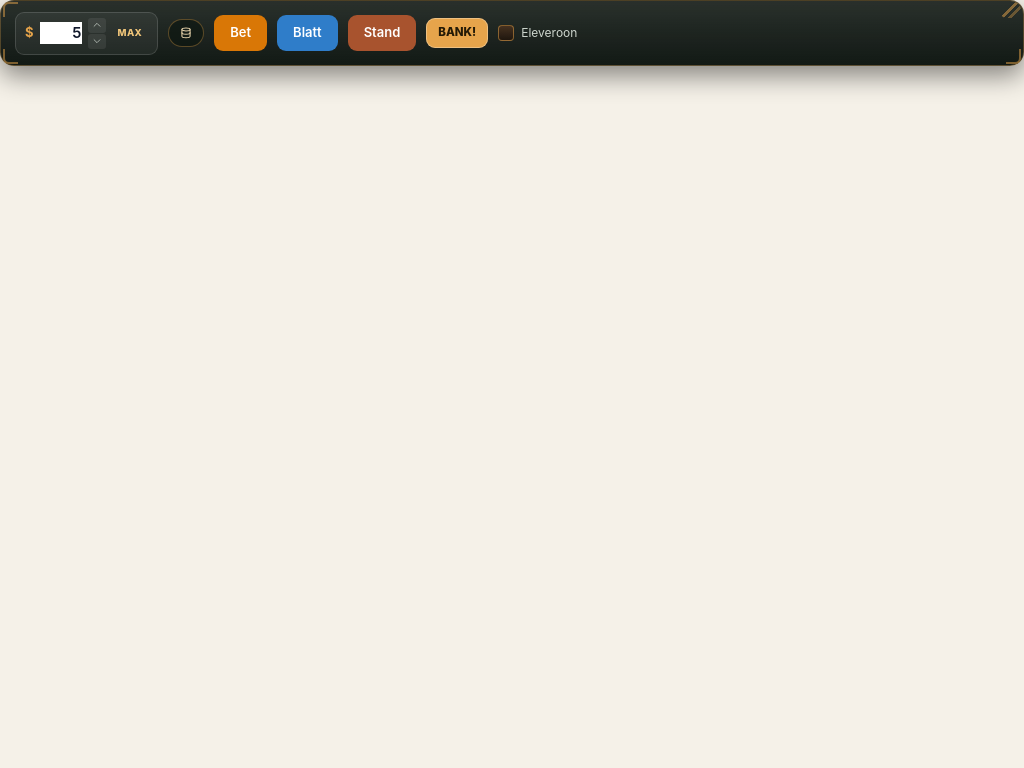
Test: PlayerDock BANK! confirmation › opens a confirmation dialog instead of arming the bet field directly
The image size is (1024, 768).
Click the button "BANK!" at {"x": 457, "y": 33}, box [426,18,488,48]
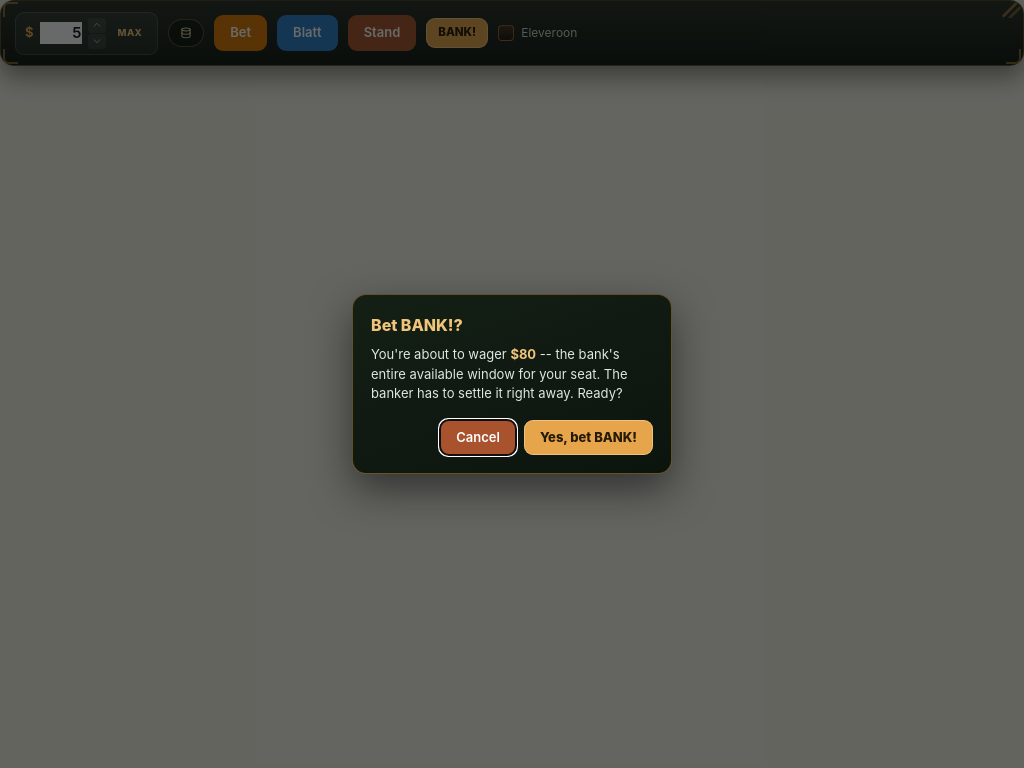
Expected: the number field named "Bet amount" holds "5", [40,22,82,44]
Expected: the text "Bet BANK!?" is shown, [371,315,463,335]
